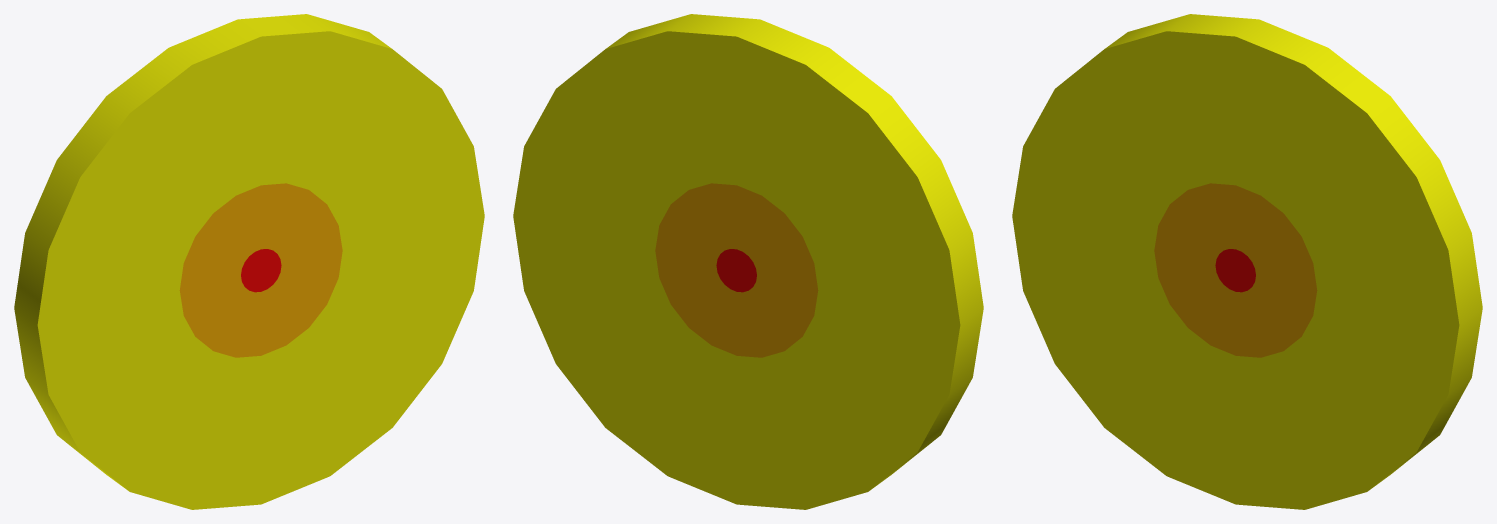
Rendered from DartBoardv2.fbx.
The picture shows the model from 3 angles, left to right: view 1: azimuth 30°, elevation 25°; view 2: azimuth 150°, elevation 25°; view 3: azimuth 330°, elevation 25°; orthographic projection.
Visible parts, largest first — view 1: pCylinder7, pCylinder9, pCylinder1; view 2: pCylinder7, pCylinder9, pCylinder1; view 3: pCylinder7, pCylinder9, pCylinder1.
Boxes of the visible parts, x1,y1,x2,y2 form: pCylinder7: (14,14,484,509); pCylinder9: (179,183,342,357); pCylinder1: (241,249,281,292); pCylinder7: (513,14,983,509); pCylinder9: (655,183,818,357); pCylinder1: (716,249,756,292); pCylinder7: (1012,14,1482,509); pCylinder9: (1154,183,1317,357); pCylinder1: (1215,249,1255,292).
Size of the model in its own units: 282 by 282 by 25.62.
